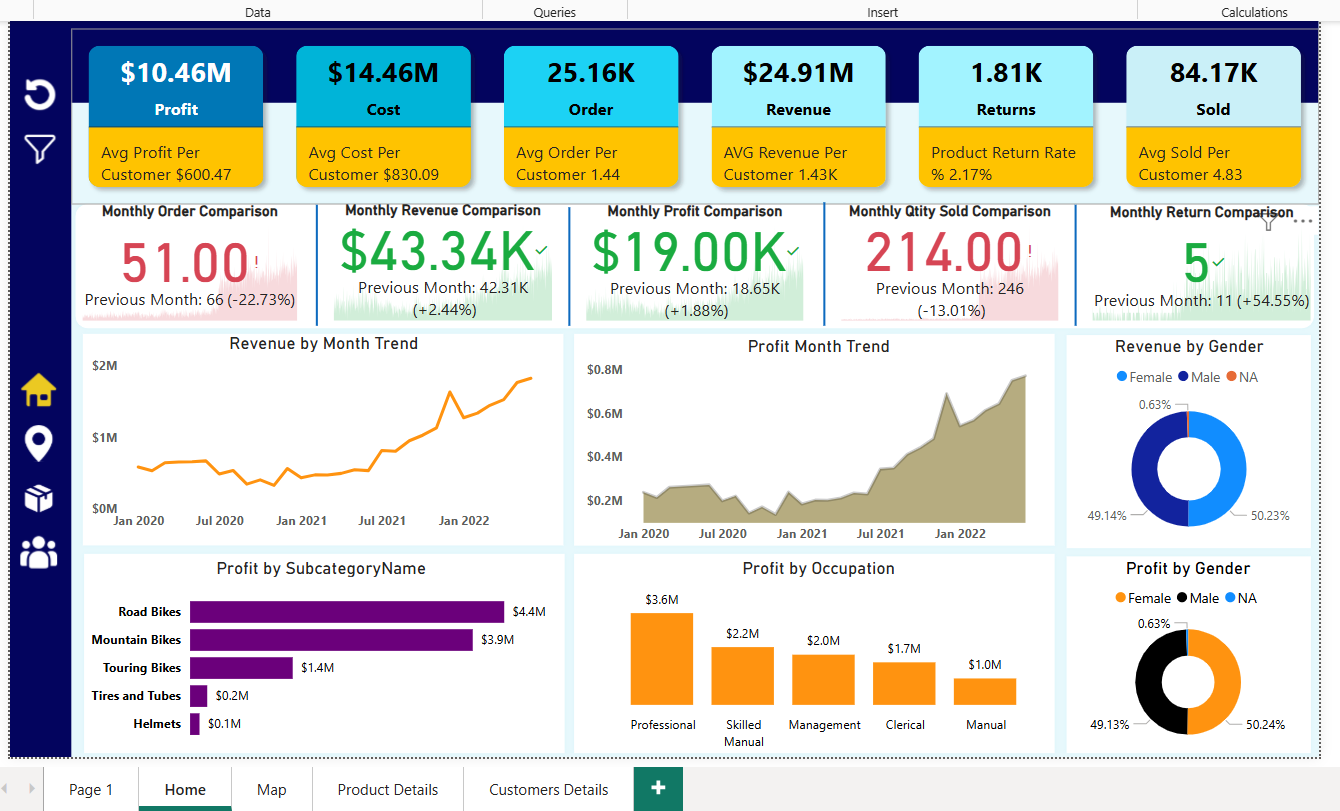

What the dashboard file says about the page in this screenshot:
{"tool":"powerbi","page":{"name":"Home","canvas":[1280,720],"ordinal":1},"visuals":[{"type":"shape","box":[59.9,174.9,1220.4,130],"z":0},{"type":"shape","box":[0,0,1280.3,80],"z":1000},{"type":"shape","box":[0,0,60,720.2],"z":2000},{"type":"cardVisual","fields":{"Data":["_Measure.Profit","_Measure.Cost","_Measure.Order QTY","_Measure.Total Revenue","_Measure.Total Return","_Measure.Quantity Sold"]},"box":[59.9,7.3,1220.4,172.4],"z":3000},{"type":"kpi","title":"Monthly Order Comparison","fields":{"Indicator":["_Measure.Order QTY"],"TrendLine":["DimDate.Date"],"Goal":["_Measure._Order Previous Month"]},"box":[66,177.3,220.1,121.1],"z":4000},{"type":"kpi","title":"Monthly Revenue Comparison","fields":{"TrendLine":["DimDate.Date"],"Indicator":["_Measure.Total Revenue"],"Goal":["_Measure._Previous Month Revenue"]},"box":[311.8,176.1,223.8,122.3],"z":5000},{"type":"shape","box":[288.6,179.8,23.2,118.6],"z":6000},{"type":"shape","box":[535.6,182.2,23.2,116.2],"z":7000},{"type":"kpi","title":"Monthly Profit Comparison","fields":{"TrendLine":["DimDate.Date"],"Indicator":["_Measure.Profit"],"Goal":["_Measure._Profit Previous Month"]},"box":[558.8,177.3,222.6,121.1],"z":8000},{"type":"kpi","title":"Monthly Qtity Sold Comparison","fields":{"TrendLine":["DimDate.Date"],"Indicator":["_Measure.Quantity Sold"],"Goal":["_Measure._QuantitySold Previous MOnth"]},"box":[808.3,177.3,222.6,121.1],"z":9000},{"type":"kpi","title":"Monthly Return Comparison","fields":{"TrendLine":["DimDate.Date"],"Indicator":["_Measure.Quantity Return"],"Goal":["_Measure._QuantityReturn Previous Month"]},"box":[1054.1,178.5,223.8,119.8],"z":10000},{"type":"shape","box":[1030.8,179.8,23.2,118.6],"z":11000},{"type":"shape","box":[785.1,177.3,23.2,121.1],"z":12000},{"type":"shape","box":[67.3,302,478.1,215],"z":13000},{"type":"shape","box":[547.8,517,478.1,203],"z":14000},{"type":"lineChart","title":"Revenue by Month Trend","fields":{"Y":["_Measure.Total Revenue"],"Category":["DimDate.Date Hierarchy.Year","DimDate.Date Hierarchy.Start of the Month","DimDate.Date Hierarchy.Year-Quarter","DimDate.Date Hierarchy.Date"]},"box":[74.6,304.5,464.7,203],"z":15000},{"type":"shape","box":[547.8,302,478.1,215.2],"z":16000},{"type":"lineChart","title":"Profit Month Trend","fields":{"Category":["DimDate.Date Hierarchy.Year","DimDate.Date Hierarchy.Start of the Month","DimDate.Date Hierarchy.Year-Quarter","DimDate.Date Hierarchy.Date"],"Y":["_Measure.Profit"]},"box":[558.8,308.2,464.7,212],"z":17000},{"type":"shape","box":[68.5,517.3,478.1,203],"z":18000},{"type":"shape","box":[1029.6,303.3,247,216.4],"z":19000},{"type":"shape","box":[1029.6,519.4,247,200.5],"z":20000},{"type":"donutChart","title":"Revenue by Gender","fields":{"Category":["DimCustomer.Gender"],"Y":["_Measure.Total Revenue"]},"box":[1037,308.2,233.6,211.6],"z":21000},{"type":"barChart","fields":{"Category":["DimProduct Subcategories.SubcategoryName"],"Y":["_Measure.Profit"]},"box":[73.4,524.6,462.2,190.8],"z":22000},{"type":"columnChart","fields":{"Category":["DimCustomer.Occupation"],"Y":["_Measure.Profit"]},"box":[558.8,524.6,464.7,195.7],"z":23000},{"type":"donutChart","title":"Profit by Gender","fields":{"Category":["DimCustomer.Gender"],"Y":["_Measure.Profit"]},"box":[1035.7,524.6,233.6,195.7],"z":24000},{"type":"actionButton","box":[5.8,338.7,51.4,44],"z":25000},{"type":"actionButton","box":[5.8,391.7,51.4,44],"z":26000},{"type":"actionButton","box":[5.8,444.7,51.4,44],"z":27000},{"type":"actionButton","box":[5.8,497.7,51.4,44],"z":28000},{"type":"actionButton","box":[7.3,50.1,51.4,44],"z":29000},{"type":"actionButton","box":[7.3,102.7,51.4,44],"z":30000}]}

Visuals, with their boxes on the page's 1280x720 design canvas (x1, y1, x2, y2). These are canvas units, not pixel positions in the 1340x811 screenshot, which may show the page scaled, cropped or inside an application window:
shape: BBox(60, 175, 1280, 305)
shape: BBox(0, 0, 1280, 80)
shape: BBox(0, 0, 60, 720)
cardVisual - _Measure.Profit x _Measure.Cost: BBox(60, 7, 1280, 180)
"Monthly Order Comparison" kpi: BBox(66, 177, 286, 298)
"Monthly Revenue Comparison" kpi: BBox(312, 176, 536, 298)
shape: BBox(289, 180, 312, 298)
shape: BBox(536, 182, 559, 298)
"Monthly Profit Comparison" kpi: BBox(559, 177, 781, 298)
"Monthly Qtity Sold Comparison" kpi: BBox(808, 177, 1031, 298)
"Monthly Return Comparison" kpi: BBox(1054, 178, 1278, 298)
shape: BBox(1031, 180, 1054, 298)
shape: BBox(785, 177, 808, 298)
shape: BBox(67, 302, 545, 517)
shape: BBox(548, 517, 1026, 720)
"Revenue by Month Trend" lineChart: BBox(75, 304, 539, 508)
shape: BBox(548, 302, 1026, 517)
"Profit Month Trend" lineChart: BBox(559, 308, 1024, 520)
shape: BBox(68, 517, 547, 720)
shape: BBox(1030, 303, 1277, 520)
shape: BBox(1030, 519, 1277, 720)
"Revenue by Gender" donutChart: BBox(1037, 308, 1271, 520)
barChart - DimProduct Subcategories.SubcategoryName x _Measure.Profit: BBox(73, 525, 536, 715)
columnChart - DimCustomer.Occupation x _Measure.Profit: BBox(559, 525, 1024, 720)
"Profit by Gender" donutChart: BBox(1036, 525, 1269, 720)
actionButton: BBox(6, 339, 57, 383)
actionButton: BBox(6, 392, 57, 436)
actionButton: BBox(6, 445, 57, 489)
actionButton: BBox(6, 498, 57, 542)
actionButton: BBox(7, 50, 59, 94)
actionButton: BBox(7, 103, 59, 147)
